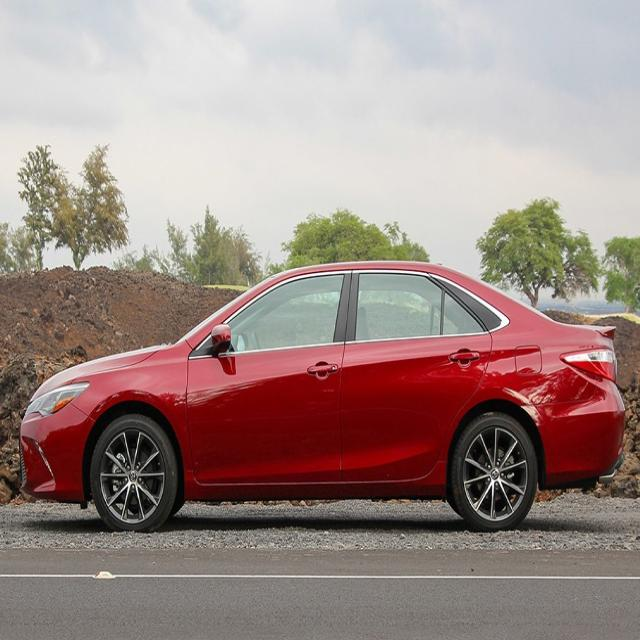back_left_side_light: (560, 346, 619, 386)
door: (346, 266, 496, 480)
front_left_side_door: (185, 267, 352, 489)
front_left_side_light: (22, 379, 92, 420)
front_left_side_mirror: (210, 323, 232, 357)
wheel: (448, 407, 537, 533), (90, 412, 178, 533)
